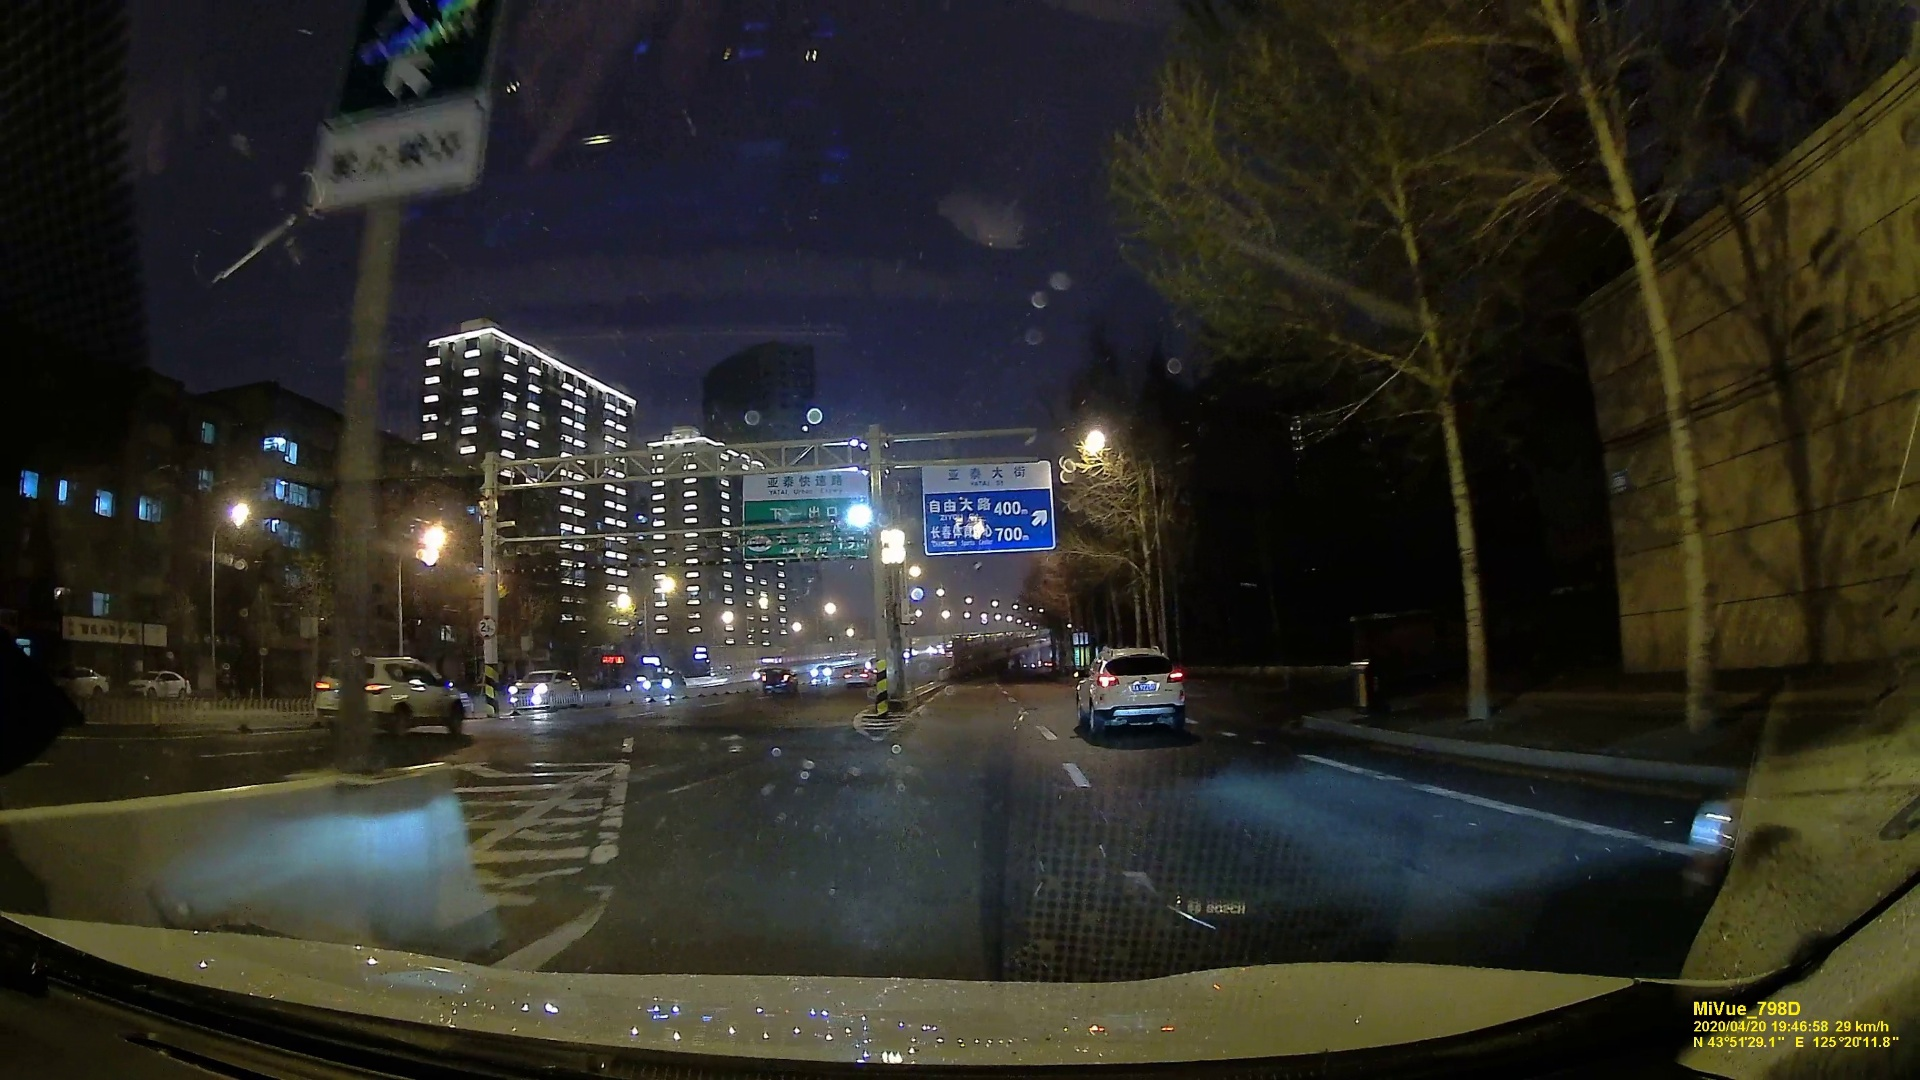traffic_sign: (741, 468, 870, 555), (928, 464, 1048, 549)
vehicle: (305, 655, 469, 735), (1079, 649, 1189, 735), (504, 670, 583, 709), (125, 670, 189, 698), (636, 673, 684, 698), (760, 669, 796, 690), (843, 667, 877, 687)
